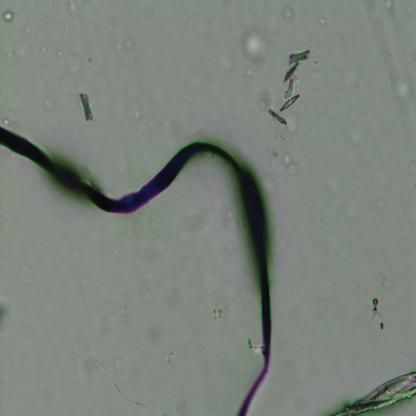Background material: (77, 328, 124, 385), (386, 57, 416, 100), (245, 30, 272, 63), (371, 296, 386, 330), (0, 295, 13, 332), (142, 267, 156, 301), (257, 81, 272, 112), (308, 67, 327, 91), (280, 153, 299, 176), (80, 92, 95, 121), (149, 326, 166, 351), (114, 39, 134, 54), (211, 307, 226, 325), (245, 342, 265, 355), (282, 7, 295, 23), (383, 0, 394, 18), (166, 351, 178, 367), (44, 97, 57, 111), (316, 15, 330, 27), (131, 109, 142, 124), (2, 10, 15, 22), (69, 2, 79, 16), (24, 23, 34, 37), (5, 49, 15, 61), (56, 47, 65, 60)
Cellulose filter fibre: (331, 363, 416, 415)
Cotton: (0, 119, 274, 416)
Diatom: (288, 48, 313, 66), (279, 94, 301, 113), (269, 110, 288, 126), (283, 63, 300, 80)
